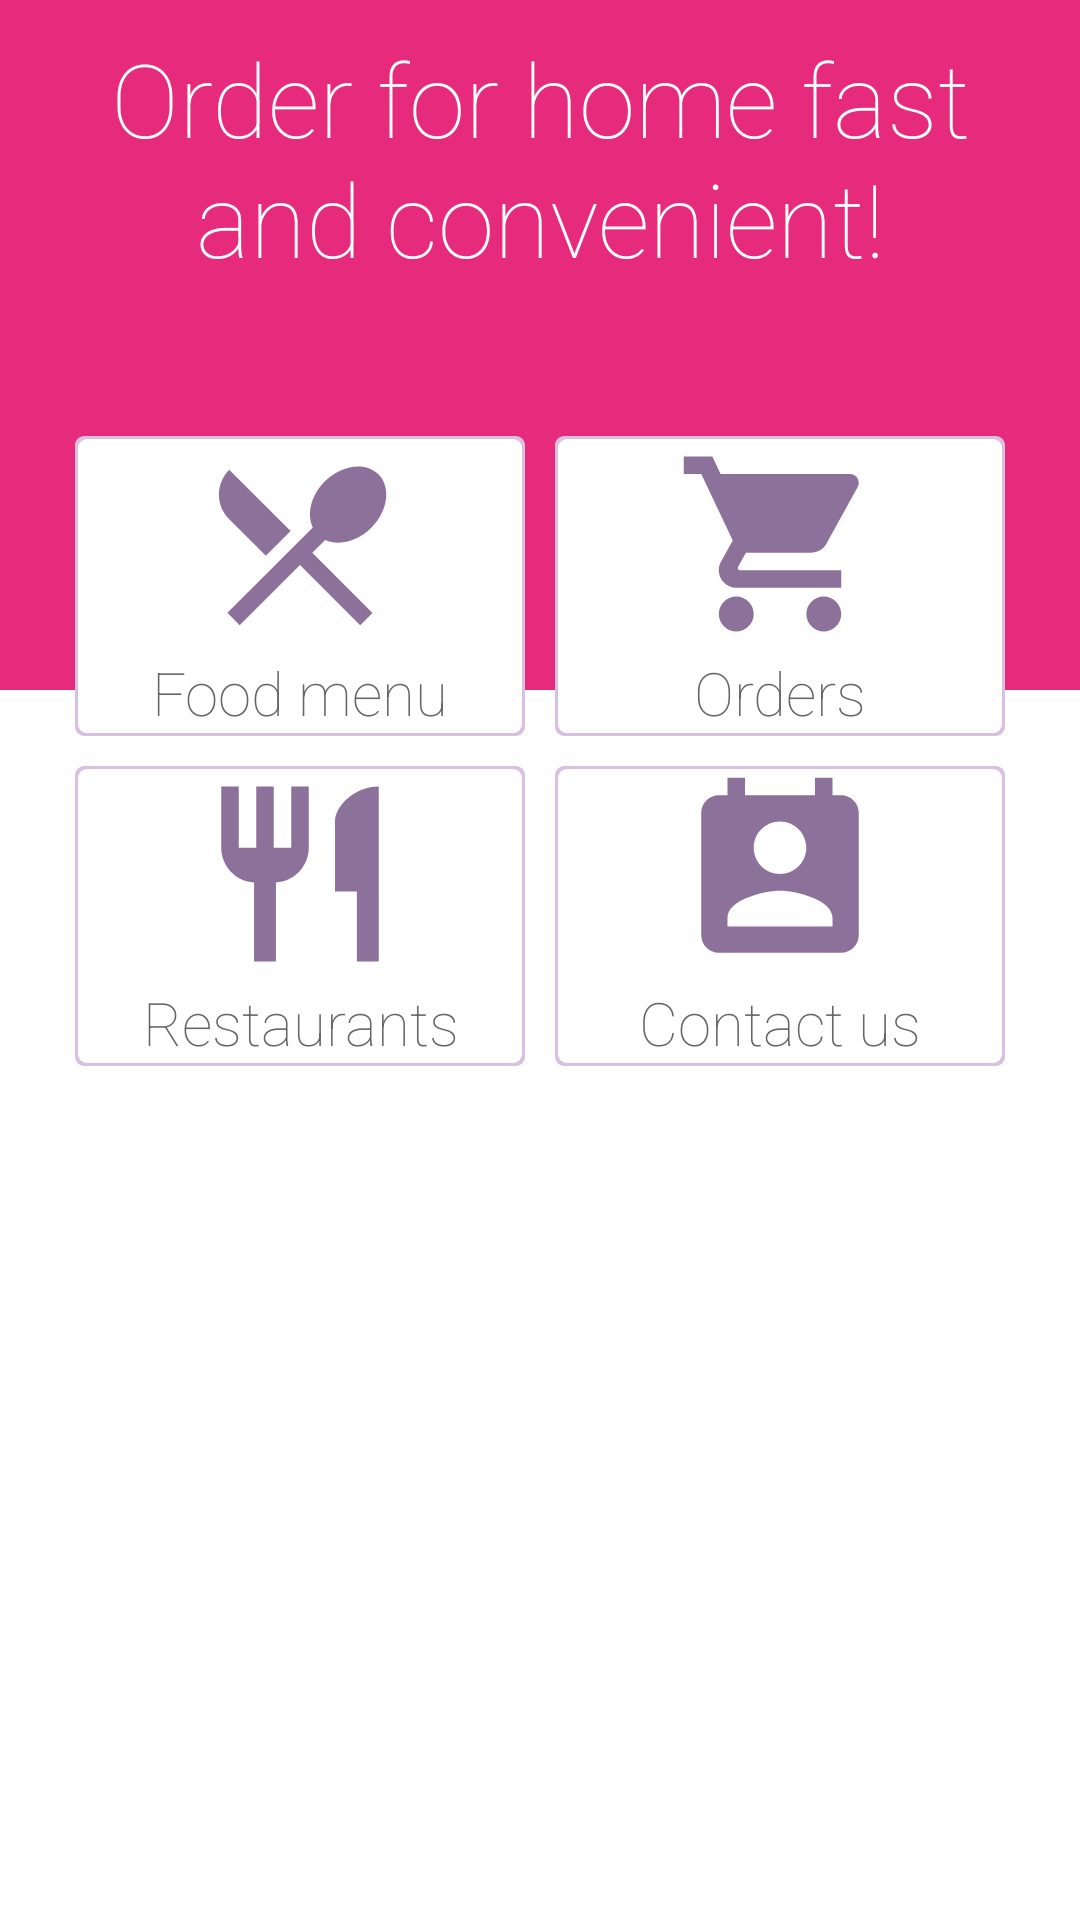

Icons on this 1080px×1920px Android screen, each with its box as (x1, y1, x2, y2):
perm contact calendar: (701, 777, 859, 953)
shopping cart: (683, 456, 859, 632)
